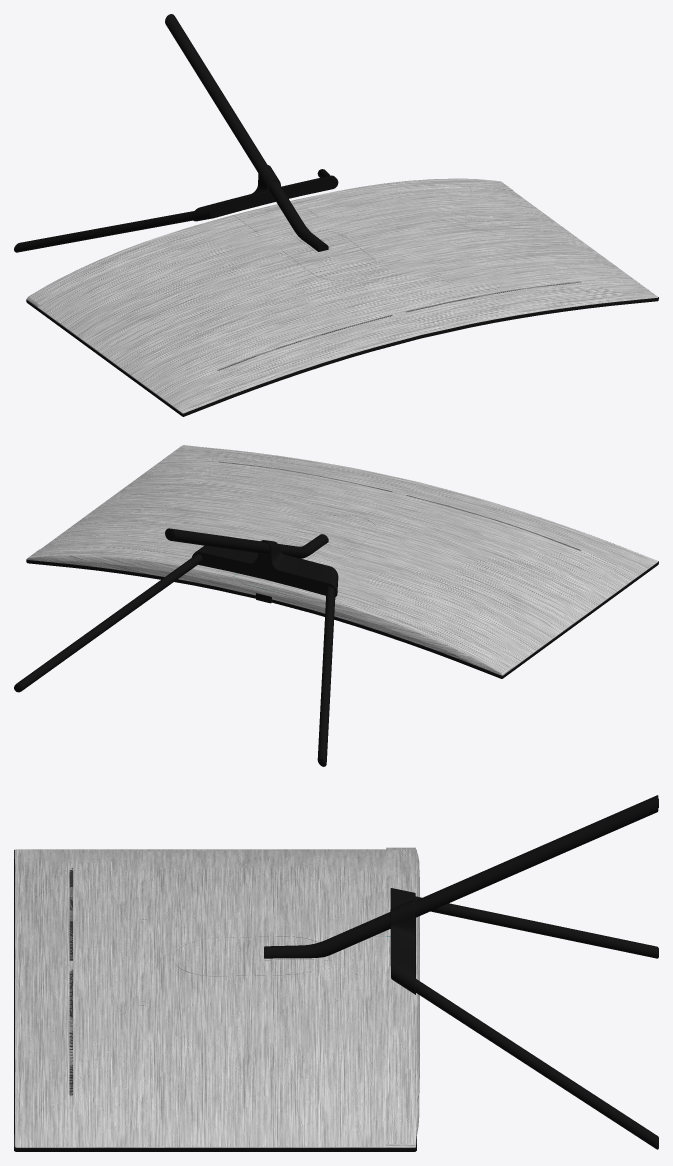
The model's file is samsung_tv.obj.
3 views of the same model, one above another, from view 1: azimuth 30°, elevation 25°; view 2: azimuth 150°, elevation 25°; view 3: azimuth 270°, elevation 25° (orthographic). The views are drawn at different scales.
Parts seen in each view (by area): view 1: Samsung_QLED_55__Studio_Stand_mat1; view 2: Samsung_QLED_55__Studio_Stand_mat1; view 3: Samsung_QLED_55__Studio_Stand_mat1.
Part boxes in pixels (box(x1,y1,x2,y2)): Samsung_QLED_55__Studio_Stand_mat1: box(14, 14, 658, 416); Samsung_QLED_55__Studio_Stand_mat1: box(14, 445, 658, 766); Samsung_QLED_55__Studio_Stand_mat1: box(14, 795, 658, 1151).
Bounding box in the file's own units: 144 × 57.98 × 131.
Materials: 7 (4 with a texture image).
